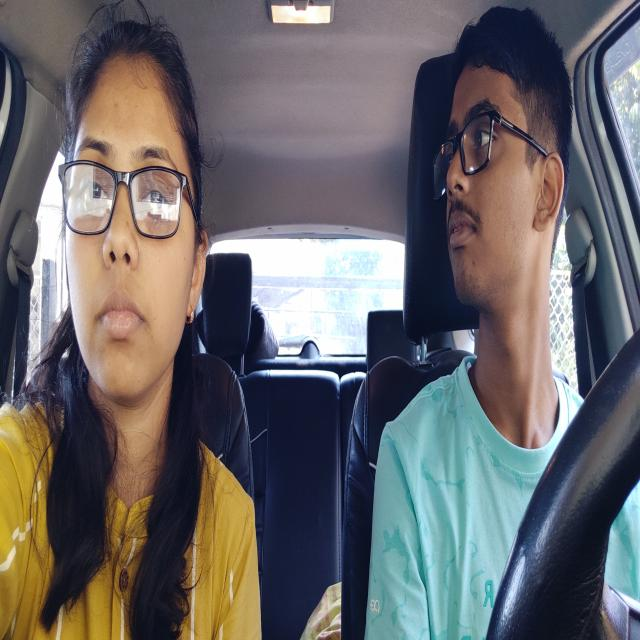LeftRight: (438, 30, 567, 302)
person: (66, 48, 192, 393)
